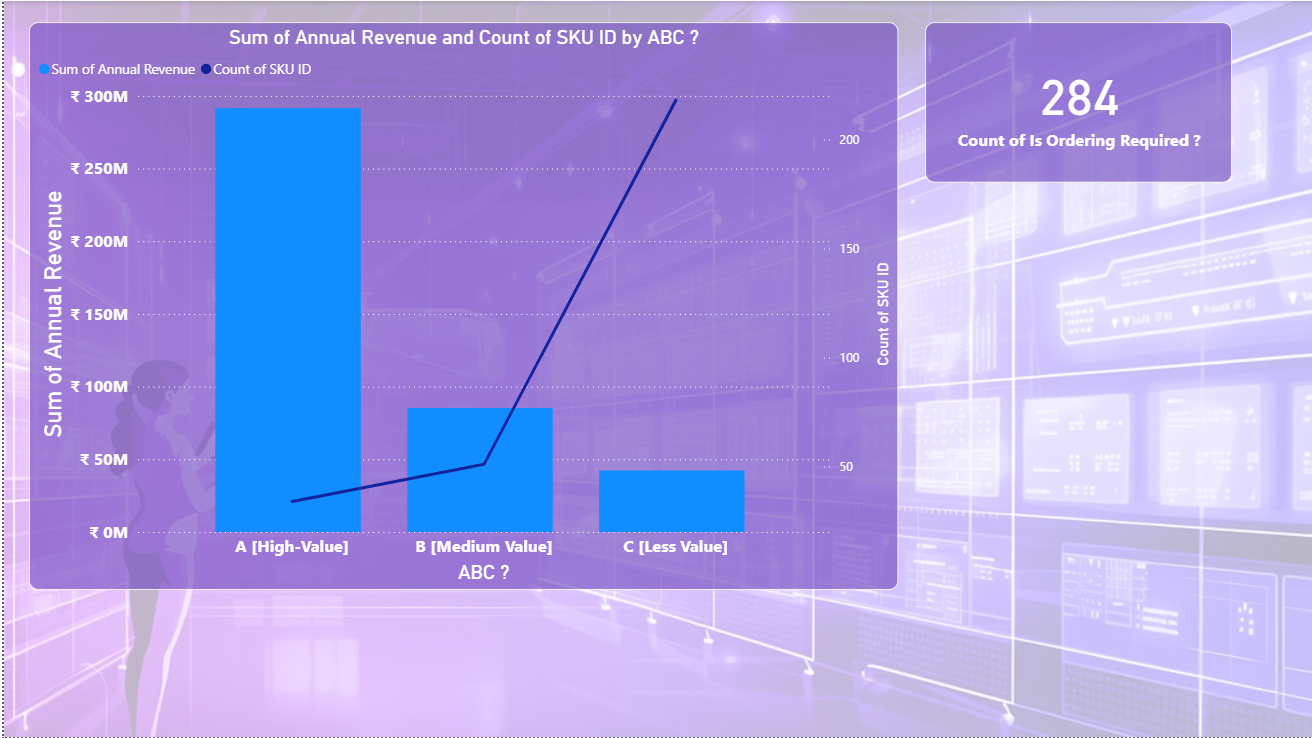

Layout of this report page (visuals, bound fields, positions):
{"tool":"powerbi","page":{"name":"Page 1","canvas":[1280,720],"ordinal":0},"visuals":[{"type":"lineStackedColumnComboChart","fields":{"Category":["Stock.ABC ?"],"Y":["Sum(Stock.Annual Revenue)"],"Y2":["CountNonNull(Stock.SKU ID)"]},"box":[24.1,20.7,850,555.2],"z":0},{"type":"card","fields":{"Values":["CountNonNull(Stock.Is Ordering Required ?)"]},"box":[901.7,20.7,300,156.9],"z":1000}]}

Visuals, with their boxes in screenshot pixels (x1, y1, x2, y2), scaled from the page's 1280x720 canvas onto the 1312x738 screenshot:
lineStackedColumnComboChart - Stock.ABC ? x Sum(Stock.Annual Revenue): <box>25,21,896,590</box>
card - CountNonNull(Stock.Is Ordering Required ?): <box>924,21,1232,182</box>
